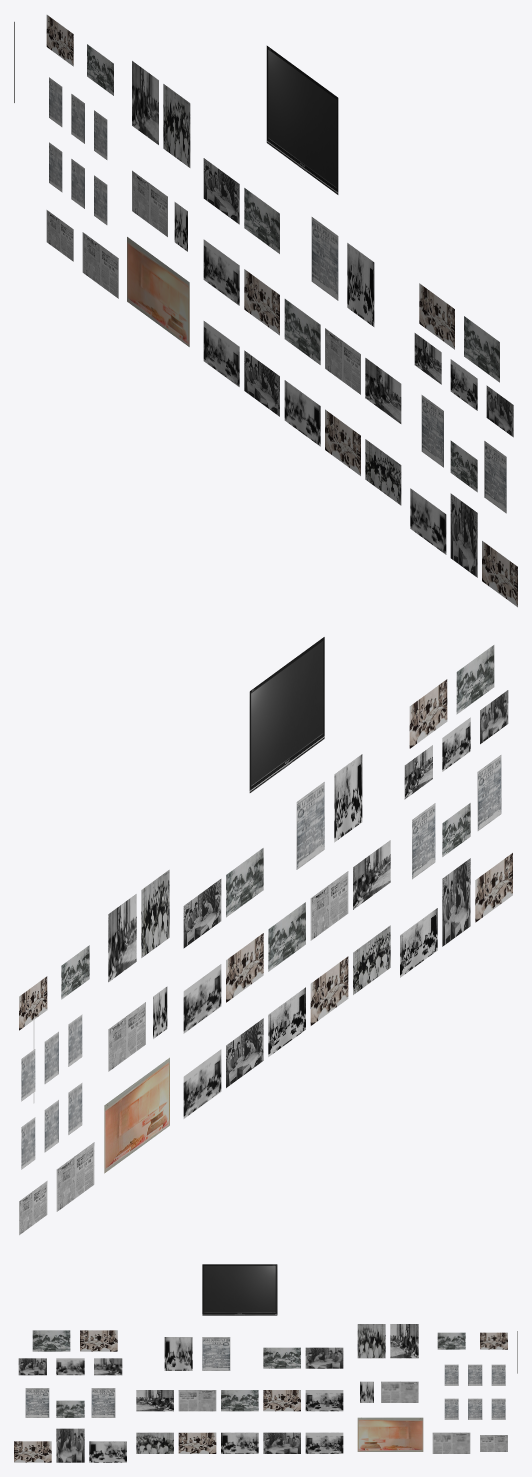
Rendered from PhongThuBa_BC.glb.
3 renders of one model, top to bottom at view 1: azimuth 30°, elevation 25°; view 2: azimuth 150°, elevation 25°; view 3: azimuth 270°, elevation 25°, orthographic. The views are drawn at different scales.
Parts seen in each view (by area): view 1: Plane.017, Plane.026, Plane.011, Plane.027, Plane.014, Plane.045, Plane.039, Plane.006, Plane.041, Plane.037, Plane.020, Plane.033 (+22 smaller); view 2: Plane.017, Plane.026, Plane.027, Plane.014, Plane.011, Plane.045, Plane.039, Plane.037, Plane.036, Plane.006, Plane.041, Plane.035 (+22 smaller); view 3: Plane.017, Plane.026, Plane.039, Plane.011, Plane.027, Plane.014, Plane.045, Plane.001, Plane.041, Plane.037, Plane.036, Plane.031 (+29 smaller).
Boxes of the visible parts, x1,y1,x2,y2 form: Plane.017: (266,45,338,194); Plane.026: (127,237,189,346); Plane.011: (450,493,477,577); Plane.027: (163,84,190,167); Plane.014: (311,217,338,300); Plane.045: (347,243,374,326); Plane.039: (132,61,158,144); Plane.006: (203,239,239,305); Plane.041: (203,158,239,224); Plane.037: (82,232,118,298); Plane.020: (365,439,401,505); Plane.033: (284,380,320,446); Plane.017: (249,637,324,793); Plane.026: (104,1057,169,1173); Plane.027: (141,869,169,957); Plane.014: (296,782,324,869); Plane.011: (442,858,470,946); Plane.045: (334,754,362,842); Plane.039: (108,894,136,981); Plane.037: (56,1142,94,1211); Plane.036: (310,871,348,940); Plane.006: (183,964,221,1033); Plane.041: (183,879,221,948); Plane.035: (183,1049,221,1118); Plane.017: (202,1264,277,1315); Plane.026: (357,1417,423,1451); Plane.039: (390,1324,418,1358); Plane.011: (56,1428,84,1462); Plane.027: (357,1324,385,1358); Plane.014: (202,1337,230,1370); Plane.045: (164,1337,192,1370); Plane.001: (32,1330,70,1351); Plane.041: (305,1347,343,1368); Plane.037: (432,1432,470,1453); Plane.036: (178,1390,216,1411); Plane.031: (178,1432,216,1453).
Bounding box in the file's own units: 0.15 × 2.32 × 5.36.
Materials: 42 (41 with a texture image).
